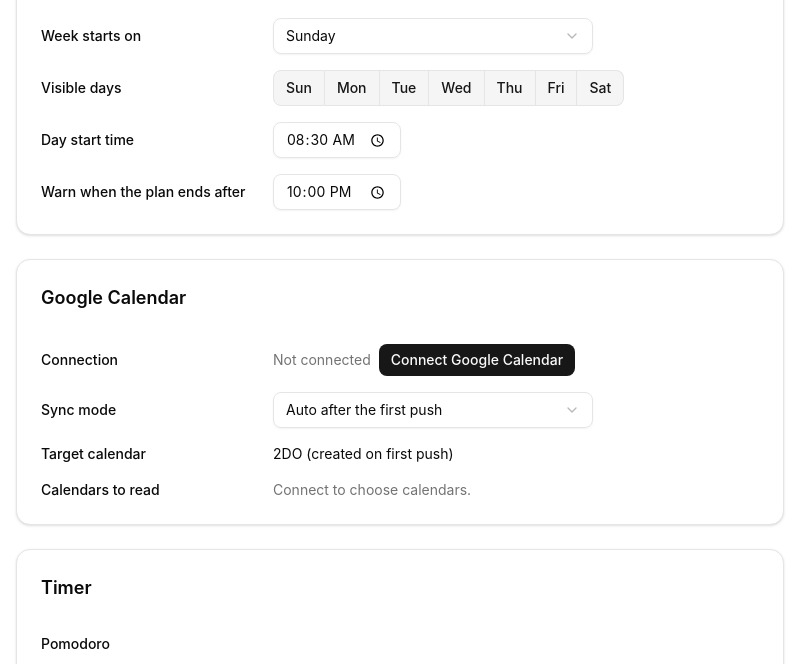
Test: Settings: Google Calendar › connects, lists calendars (primary pre-selected), toggles one, and disconnects
(page scrolled)
Click the button with test id "gcal-connect" at (477, 360), box [379, 344, 575, 376]
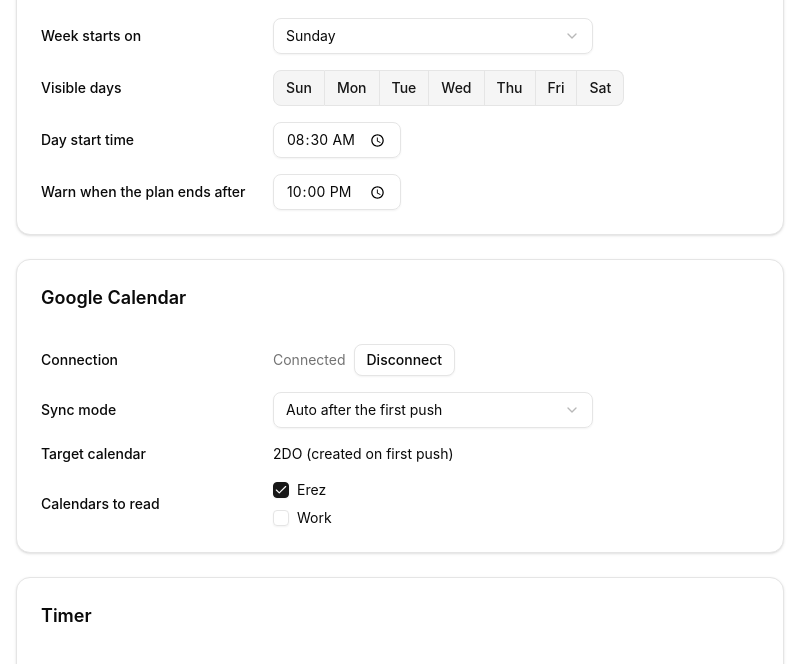
Expected: the text with test id "gcal-status" reads "Connected", [273, 351, 346, 368]
Expected: the checkbox named "Erez" next to "Erez" is checked, [273, 482, 289, 498]
Expected: the 2nd checkbox named "Work" is not checked
Click the 2nd checkbox named "Work" at (281, 518), box [273, 510, 289, 526]
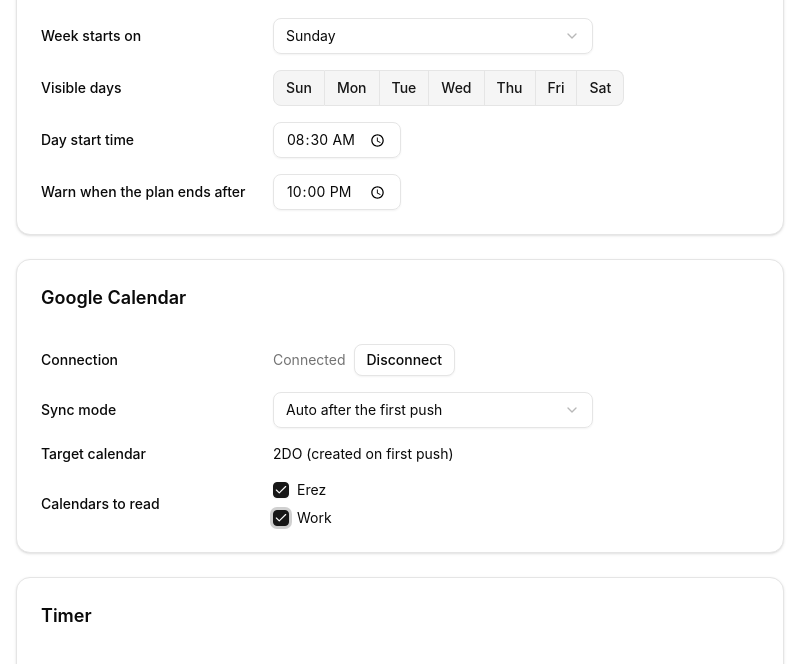
Click the button with test id "gcal-disconnect" at (404, 360), box [354, 344, 455, 376]
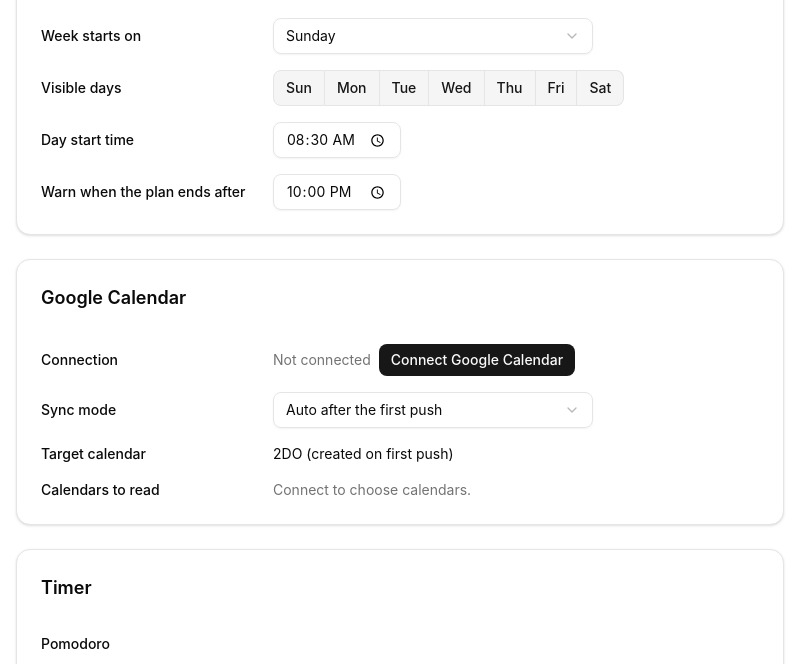
Expected: the text with test id "gcal-status" reads "Not connected", [273, 351, 371, 368]
